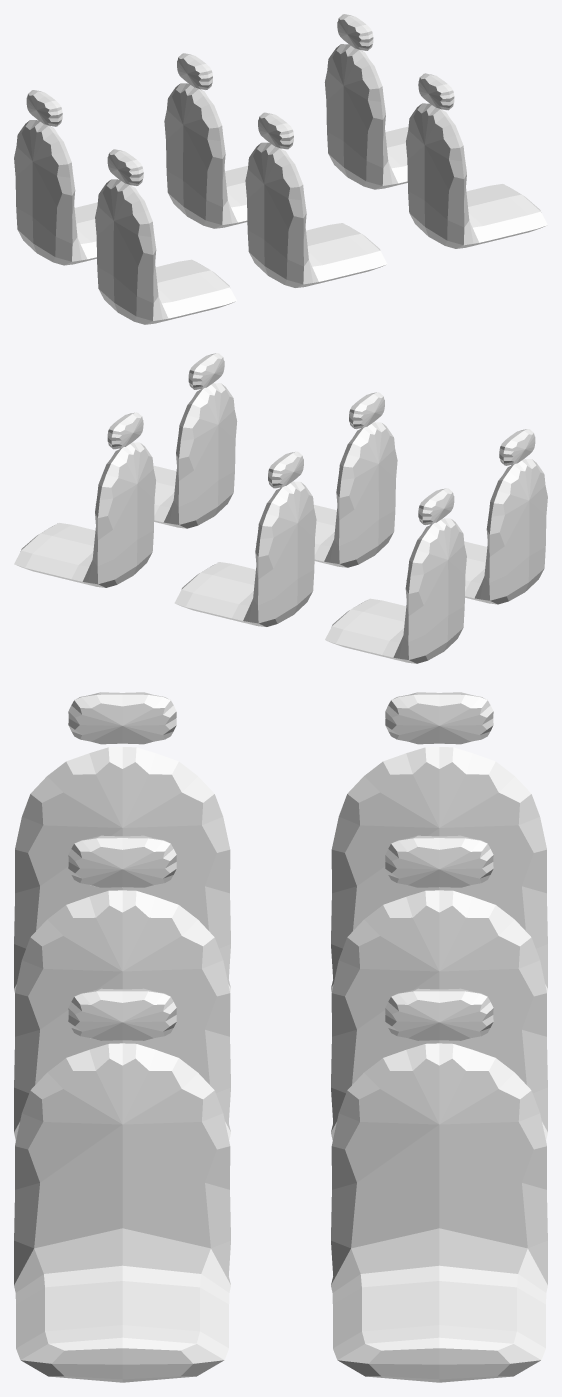
The model's file is Seats.glb.
3 renders of one model, top to bottom at view 1: azimuth 30°, elevation 25°; view 2: azimuth 150°, elevation 25°; view 3: azimuth 270°, elevation 25°, orthographic. The views are drawn at different scales.
Parts seen in each view (by area): view 1: Seat1.004; view 2: Seat1.004; view 3: Seat1.004.
Boxes of the visible parts, x1,y1,x2,y2 form: Seat1.004: [14, 14, 547, 324]; Seat1.004: [14, 353, 547, 663]; Seat1.004: [14, 692, 547, 1382].
Bounding box in the file's own units: 0.0823 × 0.0303 × 0.0472.
1 material, 1 textured.
